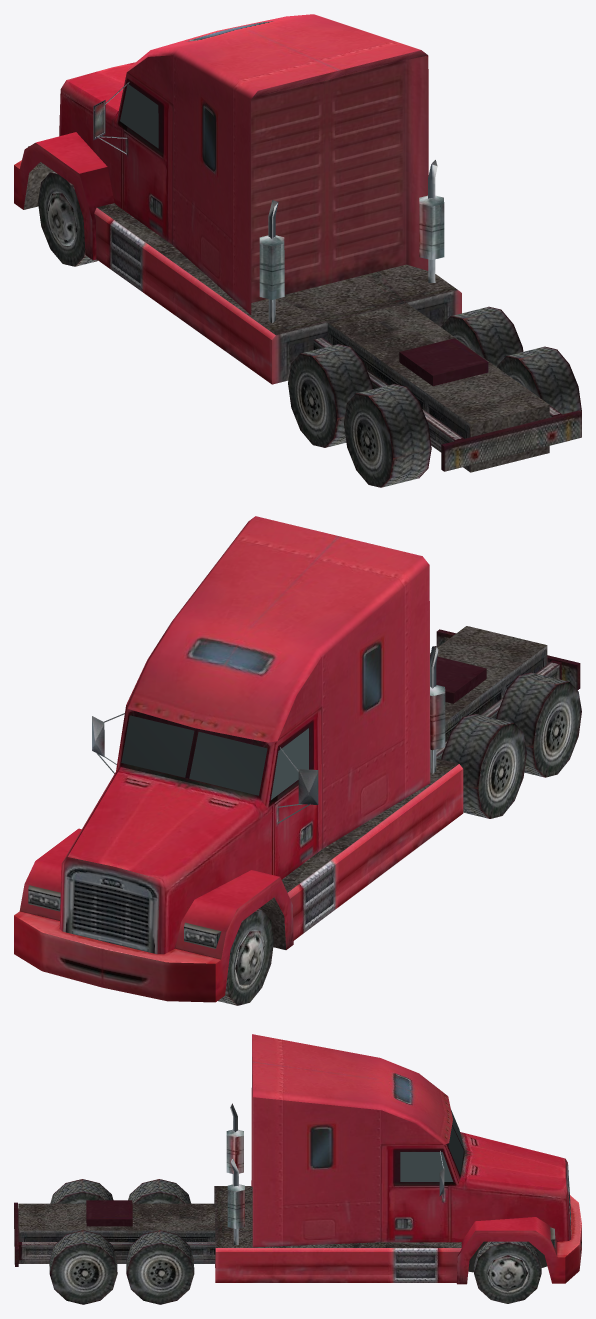
Rendered from p54_29_semi_daycab_red.glb.
The picture shows the model from 3 angles, top to bottom: view 1: azimuth 30°, elevation 25°; view 2: azimuth 150°, elevation 25°; view 3: azimuth 270°, elevation 25°; orthographic projection. The views are drawn at different scales.
Visible parts, largest first — view 1: Body, Glass; view 2: Body, Glass; view 3: Body, Glass.
Boxes of the visible parts, x1=… form: Body: x1=14, y1=14, x2=581, y2=487; Glass: x1=120, y1=84, x2=158, y2=148; Body: x1=14, y1=516, x2=581, y2=1005; Glass: x1=121, y1=715, x2=308, y2=799; Body: x1=14, y1=1034, x2=581, y2=1304; Glass: x1=400, y1=1110, x2=463, y2=1181.
Size of the model in its own units: 2.74 by 3.57 by 8.69.
2 materials, 2 textured.
